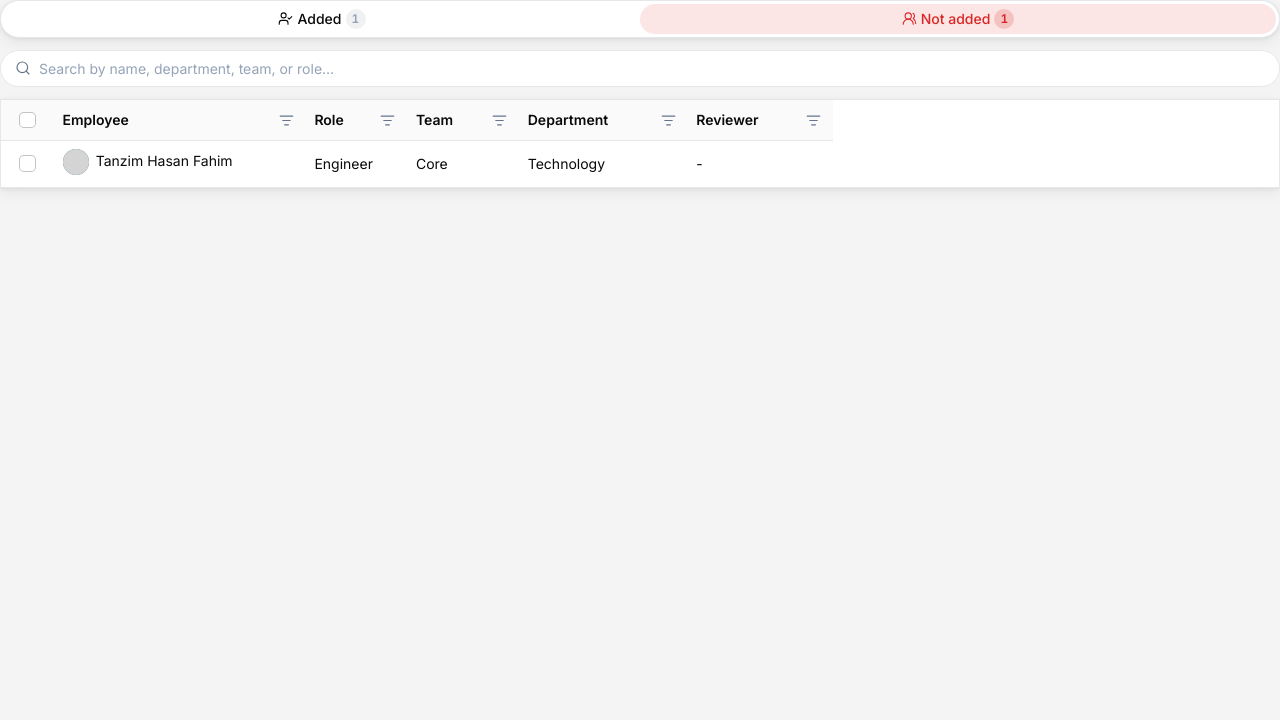
Scenario: GroupMembersEditor › removes checked members in the in-group pane
Click the button "Added 1".
click(322, 19)  # box [4,4,640,34]
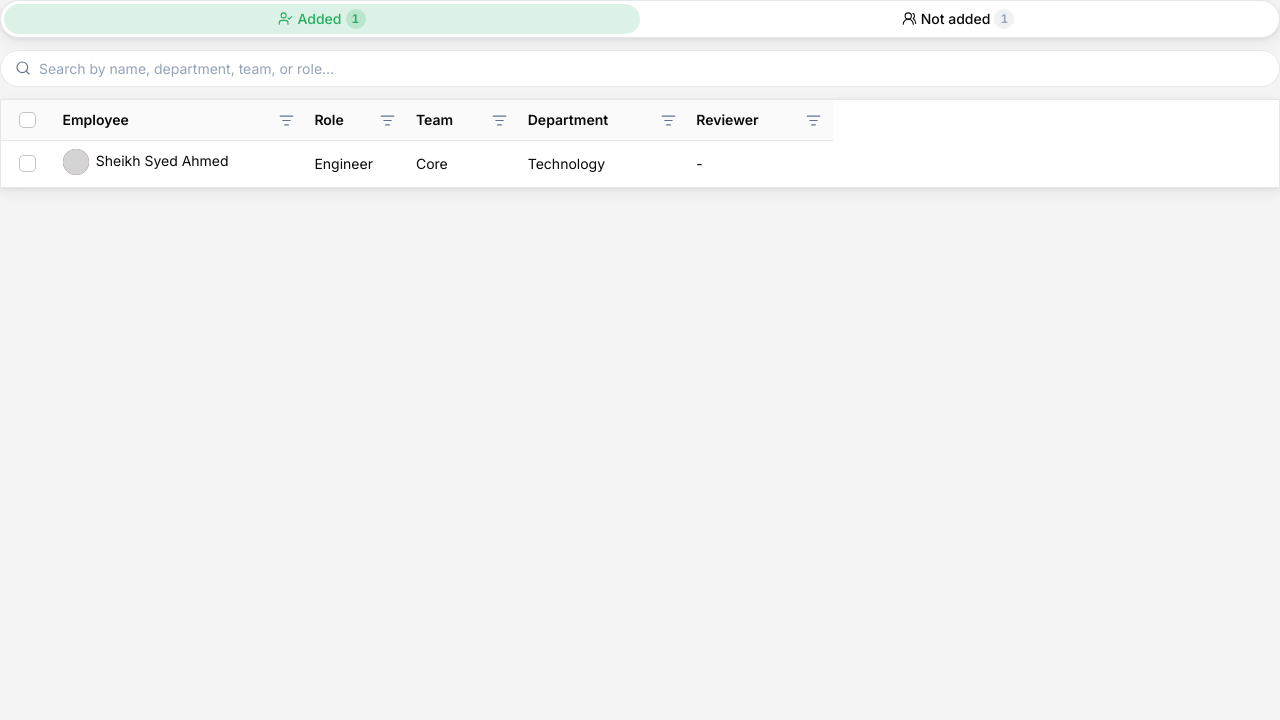
Click the checkbox named "Select Sheikh Syed Ahmed".
click(28, 164)  # box [19,155,36,172]
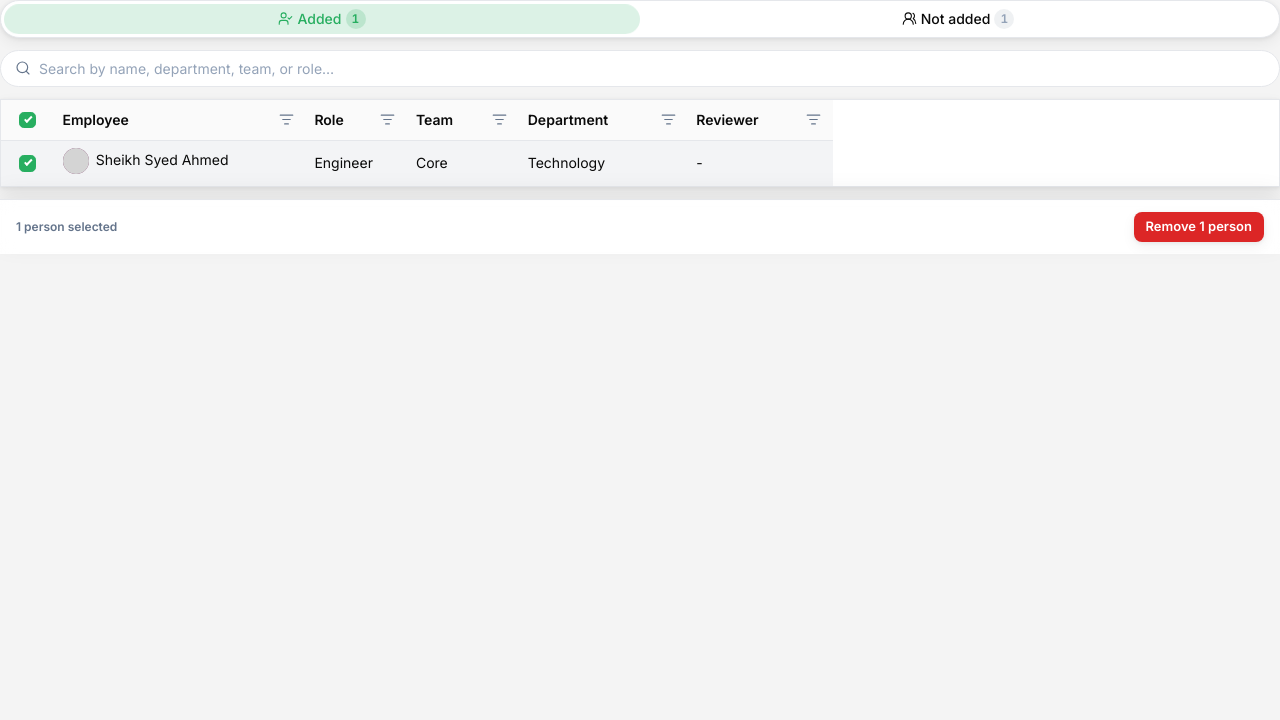
Click the button "Remove 1 person".
click(1199, 227)  # box [1134,212,1264,242]
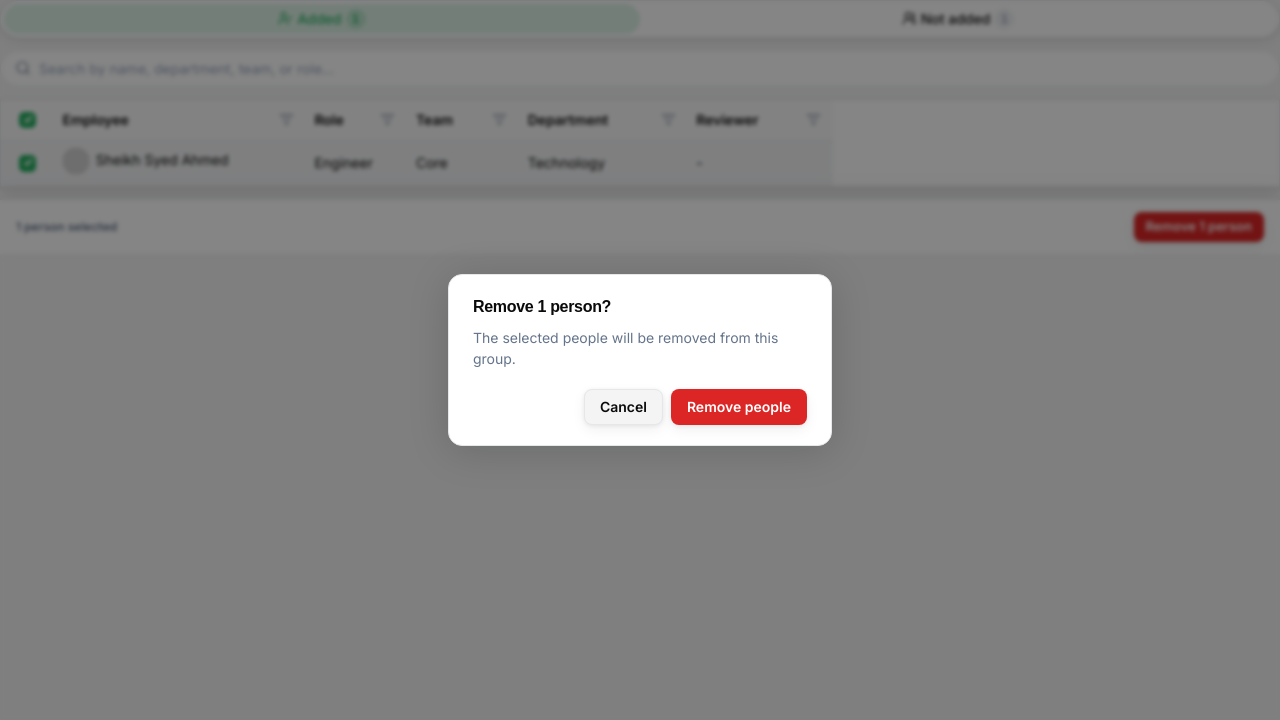
Click the button "Remove people".
click(739, 407)  # box [671,389,807,425]
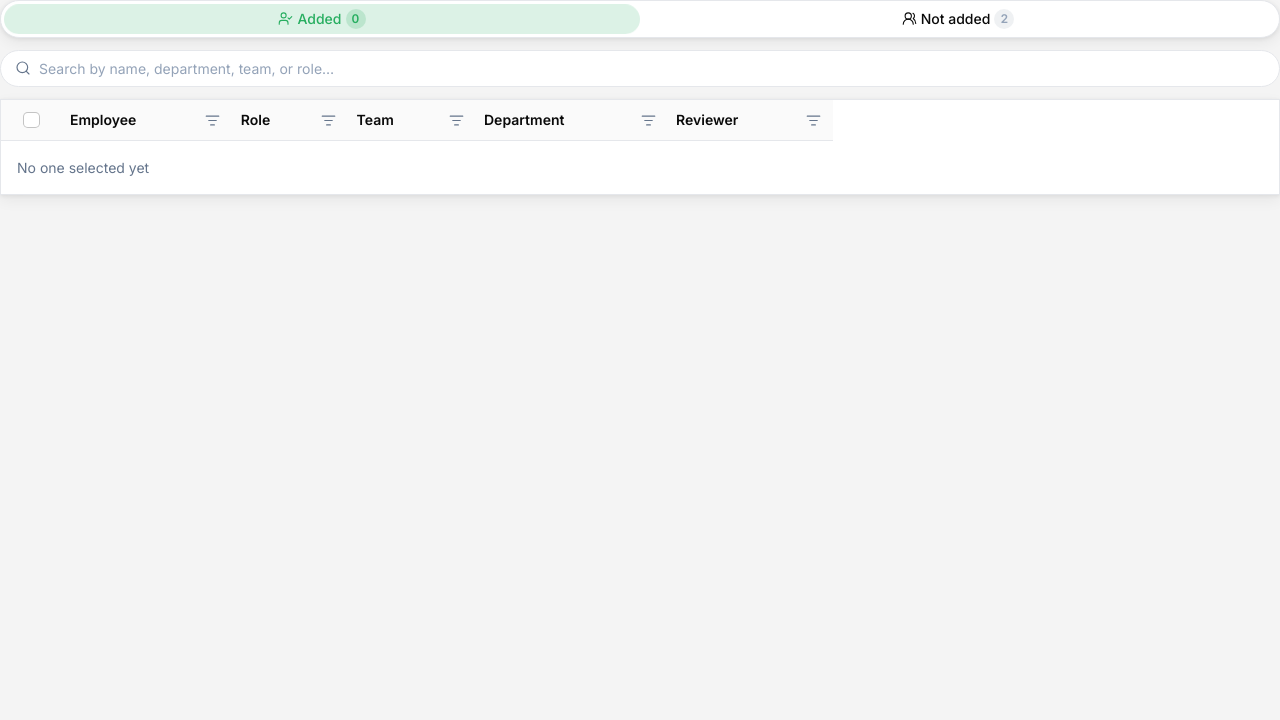
Expected: the text "No one selected yet" is shown, [17,159,149,176]
